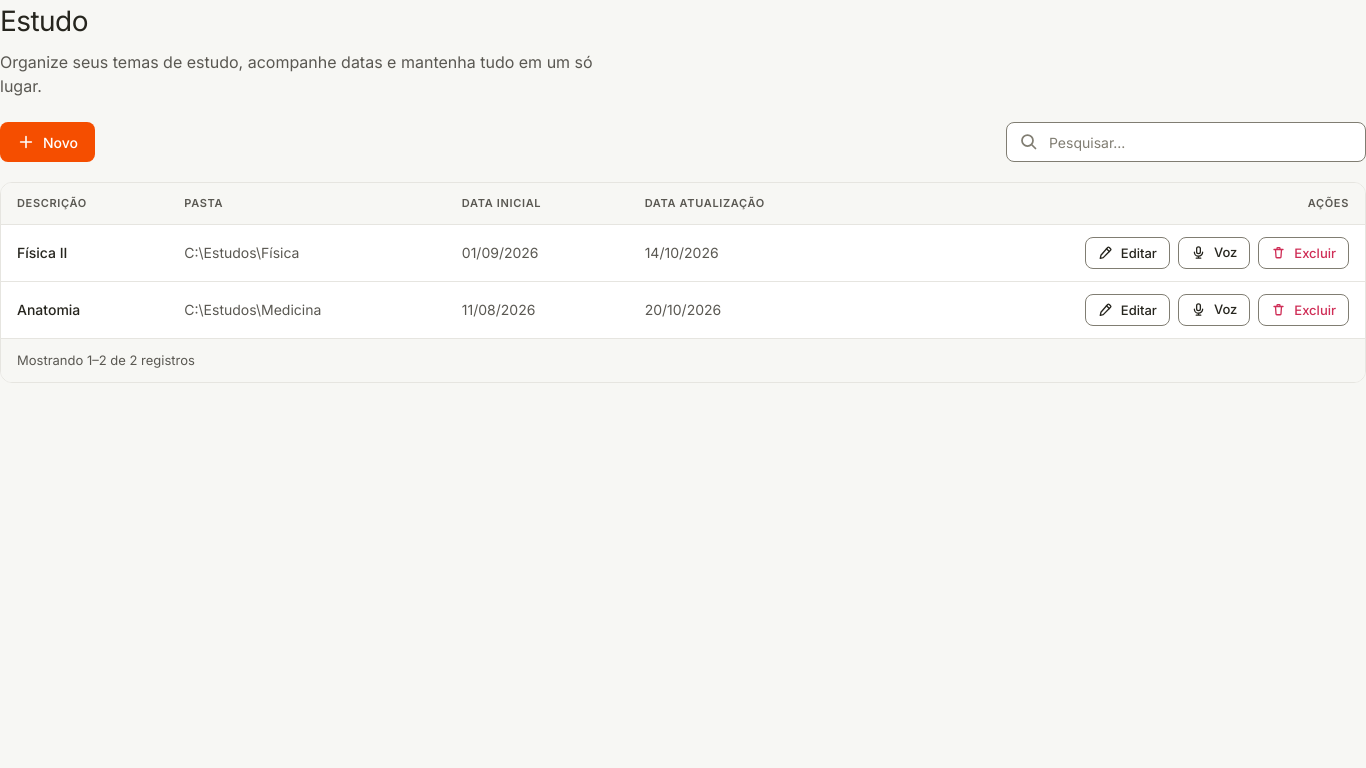
Test: StudyView: campo Pasta do modal › editar mostra a pasta do próprio registro
Click the button with aria-label "Editar registro".
click(1127, 252)  # box x1=1085 y1=236 x2=1170 y2=268
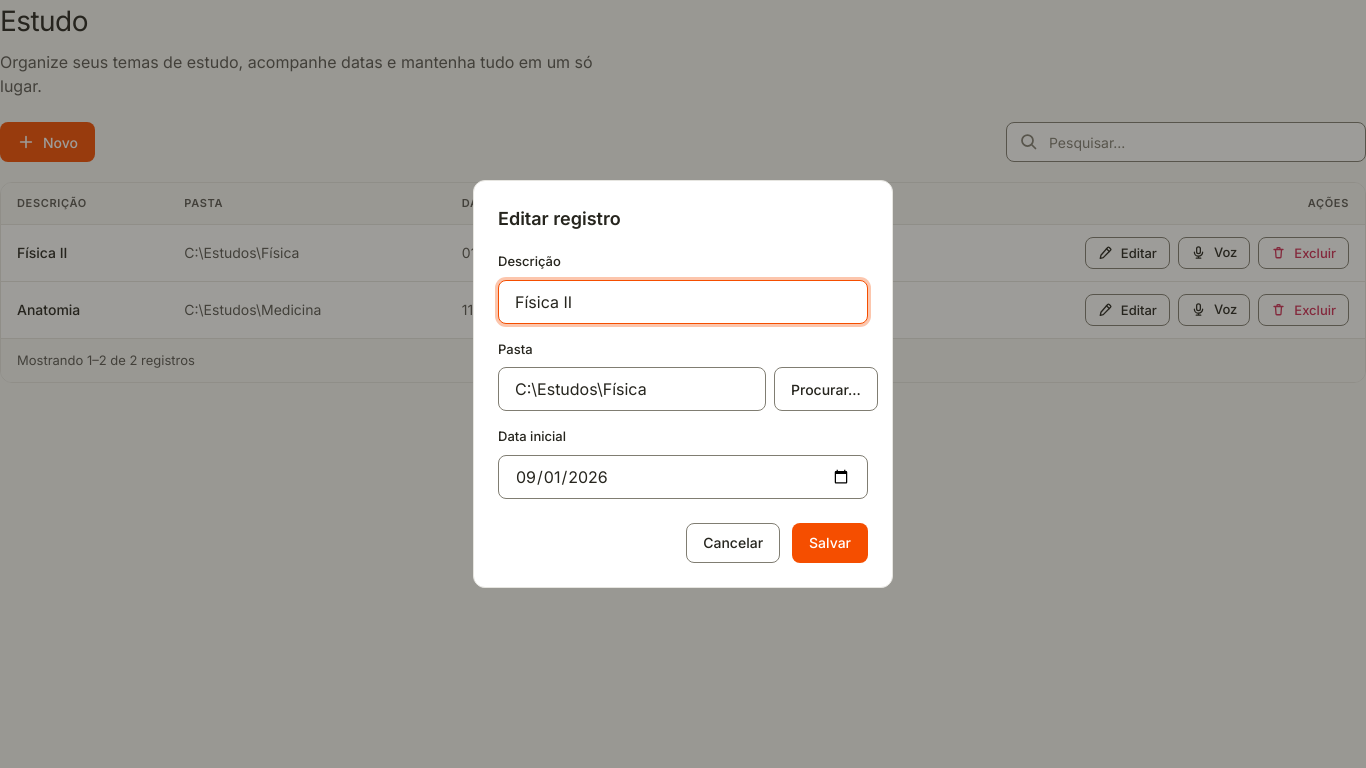
Result: the field labelled "Pasta" holds "C:\\Estudos\\Física" at x1=498 y1=367 x2=766 y2=411
